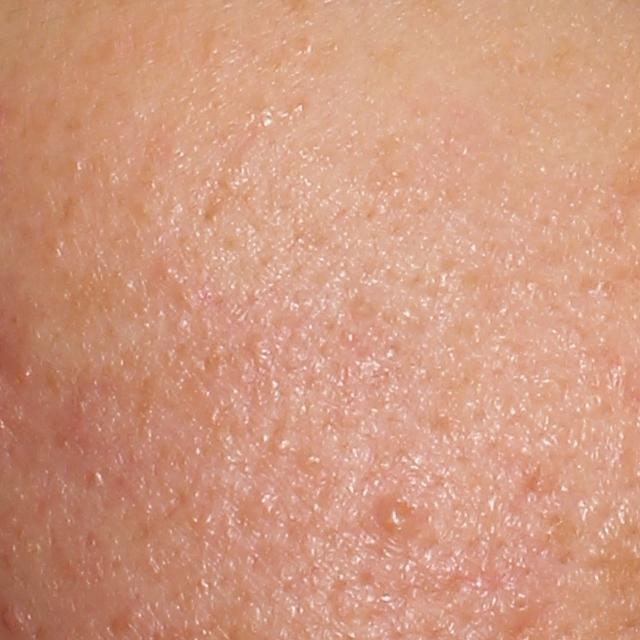comedo: (498, 585, 533, 618), (267, 432, 293, 454)
papule: (372, 489, 425, 542)
